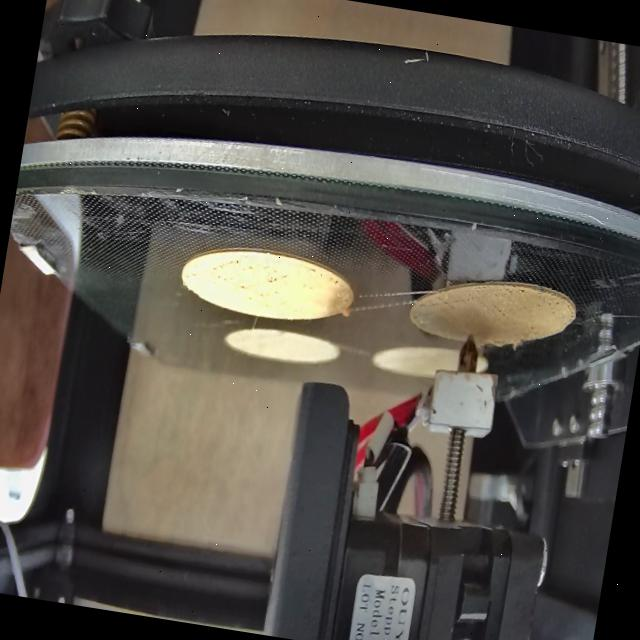under_extrusion: (185, 245, 342, 306), (510, 284, 570, 336), (419, 286, 471, 316)
